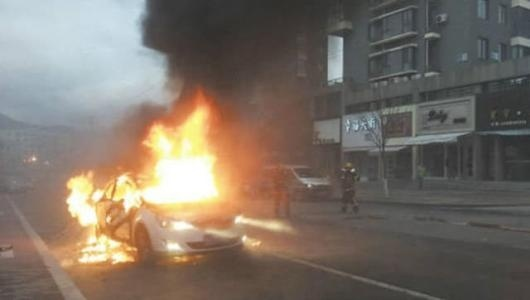fire: (128, 104, 222, 206), (64, 170, 129, 262)
